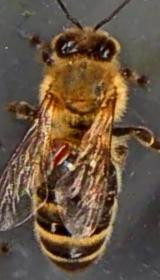varroa_mite: (54, 141, 74, 166)
